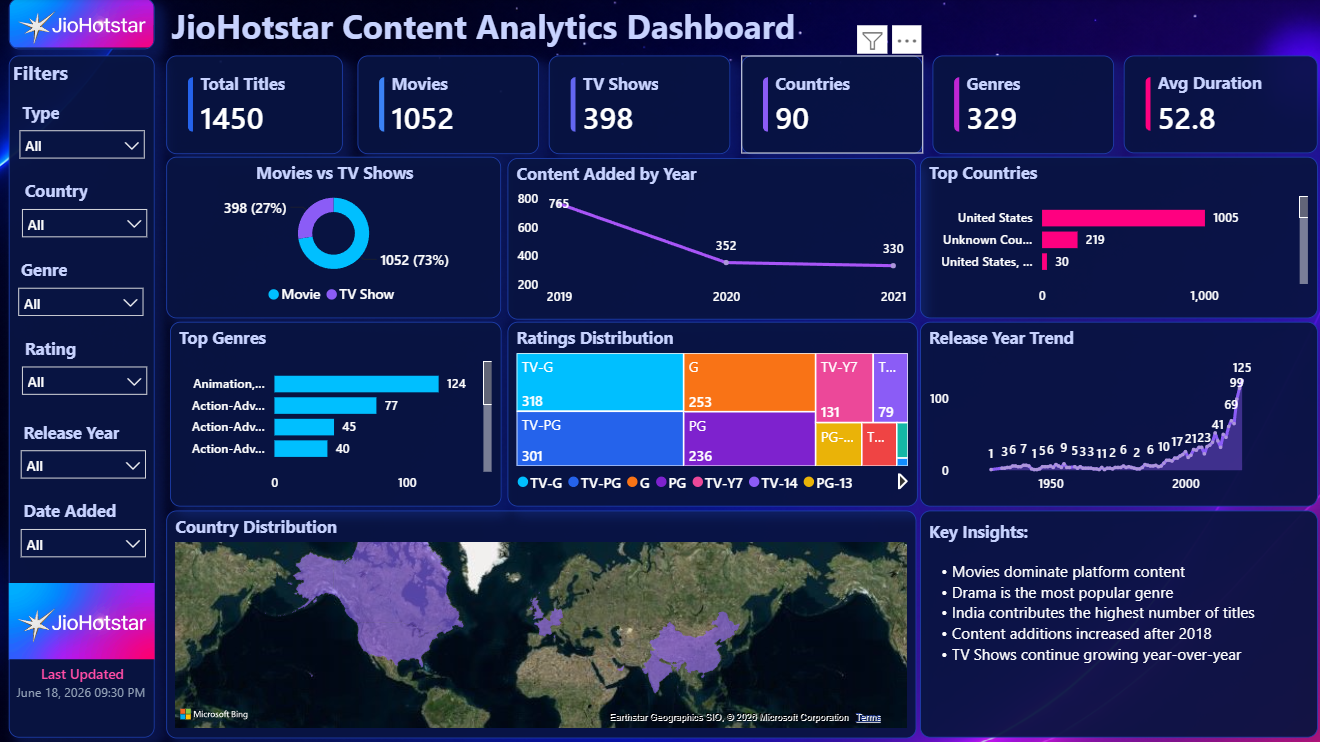

This screenshot's page, from the dashboard's own definition file:
{"tool":"powerbi","page":{"name":"JioHotstar Dashboard","canvas":[1280,720],"ordinal":0},"visuals":[{"type":"image","box":[8.4,0,141.2,49.5],"z":0},{"type":"textbox","box":[160.5,0,639.4,67.6],"z":1000},{"type":"cardVisual","title":"Total Titles","fields":{"Data":["disney_plus_titles.Total Titles"]},"box":[160.5,55.5,170.1,95.3],"z":2000},{"type":"cardVisual","title":"Movies","fields":{"Data":["disney_plus_titles.Movies"]},"box":[345,55,175,95],"z":3000},{"type":"cardVisual","title":"TV Shows","fields":{"Data":["disney_plus_titles.TV Shows"]},"box":[530,55,175,95],"z":4000},{"type":"cardVisual","title":"Countries","fields":{"Data":["disney_plus_titles.Countries"]},"box":[715,55,175,95],"z":5000},{"type":"cardVisual","title":"Genres","fields":{"Data":["disney_plus_titles.Genres"]},"box":[900,55,175,95],"z":6000},{"type":"cardVisual","title":"Avg Duration","fields":{"Data":["disney_plus_titles.Avg Duration"]},"box":[1084.6,55.5,187,94.1],"z":7000},{"type":"shape","title":"Filters","box":[8.4,55.5,141.2,658.7],"z":8000},{"type":"slicer","fields":{"Values":["disney_plus_titles.type"]},"box":[8.4,94.1,141.2,76],"z":9000},{"type":"slicer","fields":{"Values":["disney_plus_titles.country"]},"box":[10.9,170.1,141.2,76],"z":10000},{"type":"slicer","fields":{"Values":["disney_plus_titles.listed_in"]},"box":[7.2,246.1,141.2,76],"z":11000},{"type":"slicer","fields":{"Values":["disney_plus_titles.rating"]},"box":[10.9,322.1,141.2,80.8],"z":12000},{"type":"slicer","fields":{"Values":["disney_plus_titles.release_year"]},"box":[9.7,403,141.2,76],"z":13000},{"type":"slicer","fields":{"Values":["disney_plus_titles.date_added"]},"box":[9.7,479,141.2,76],"z":14000},{"type":"donutChart","title":"Movies vs TV Shows","fields":{"Category":["disney_plus_titles.type"],"Y":["CountNonNull(disney_plus_titles.show_id)"]},"box":[160.5,153.2,323.3,156],"z":15000},{"type":"clusteredBarChart","title":"Top Countries","fields":{"Category":["disney_plus_titles.country"],"Y":["CountNonNull(disney_plus_titles.show_id)"]},"box":[887.9,153.2,383.6,156],"z":16000},{"type":"filledMap","title":"Country Distribution","fields":{"Category":["disney_plus_titles.country"]},"box":[160.5,494.6,723.9,220],"z":17000},{"type":"lineChart","title":"Content Added by Year","fields":{"Y":["CountNonNull(disney_plus_titles.show_id)"],"Category":["disney_plus_titles.Year Added"]},"box":[489.8,154.4,394.5,156],"z":18000},{"type":"clusteredBarChart","title":"Top Genres","fields":{"Category":["disney_plus_titles.listed_in"],"Y":["CountNonNull(disney_plus_titles.show_id)"]},"box":[164.1,312.5,319.7,178],"z":19000},{"type":"treemap","title":"Ratings Distribution","fields":{"Group":["disney_plus_titles.rating"],"Values":["CountNonNull(disney_plus_titles.show_id)"]},"box":[489.8,312.5,395.7,178],"z":20000},{"type":"areaChart","title":"Release Year Trend","fields":{"Category":["disney_plus_titles.release_year"],"Y":["CountNonNull(disney_plus_titles.show_id)"]},"box":[887.9,312.5,383.6,178.6],"z":21000},{"type":"textbox","box":[887.9,494.6,383.6,219.6],"z":22000},{"type":"image","box":[8.4,564.6,141.2,73.6],"z":23000},{"type":"textbox","box":[10.9,638.2,137.5,33.8],"z":24000},{"type":"textbox","box":[10.9,655.1,137.5,51.9],"z":25000}]}

Visuals, with their boxes in screenshot pixels (x1, y1, x2, y2), scaled from the page's 1280x720 canvas onto the 1320x742 screenshot:
image: select_region(9, 0, 154, 51)
textbox: select_region(166, 0, 825, 70)
"Total Titles" cardVisual: select_region(166, 57, 341, 155)
"Movies" cardVisual: select_region(356, 57, 536, 155)
"TV Shows" cardVisual: select_region(547, 57, 727, 155)
"Countries" cardVisual: select_region(737, 57, 918, 155)
"Genres" cardVisual: select_region(928, 57, 1109, 155)
"Avg Duration" cardVisual: select_region(1118, 57, 1311, 154)
"Filters" shape: select_region(9, 57, 154, 736)
slicer - disney_plus_titles.type: select_region(9, 97, 154, 175)
slicer - disney_plus_titles.country: select_region(11, 175, 157, 254)
slicer - disney_plus_titles.listed_in: select_region(7, 254, 153, 332)
slicer - disney_plus_titles.rating: select_region(11, 332, 157, 415)
slicer - disney_plus_titles.release_year: select_region(10, 415, 156, 494)
slicer - disney_plus_titles.date_added: select_region(10, 494, 156, 572)
"Movies vs TV Shows" donutChart: select_region(166, 158, 499, 319)
"Top Countries" clusteredBarChart: select_region(916, 158, 1311, 319)
"Country Distribution" filledMap: select_region(166, 510, 912, 736)
"Content Added by Year" lineChart: select_region(505, 159, 912, 320)
"Top Genres" clusteredBarChart: select_region(169, 322, 499, 505)
"Ratings Distribution" treemap: select_region(505, 322, 913, 505)
"Release Year Trend" areaChart: select_region(916, 322, 1311, 506)
textbox: select_region(916, 510, 1311, 736)
image: select_region(9, 582, 154, 658)
textbox: select_region(11, 658, 153, 693)
textbox: select_region(11, 675, 153, 729)
